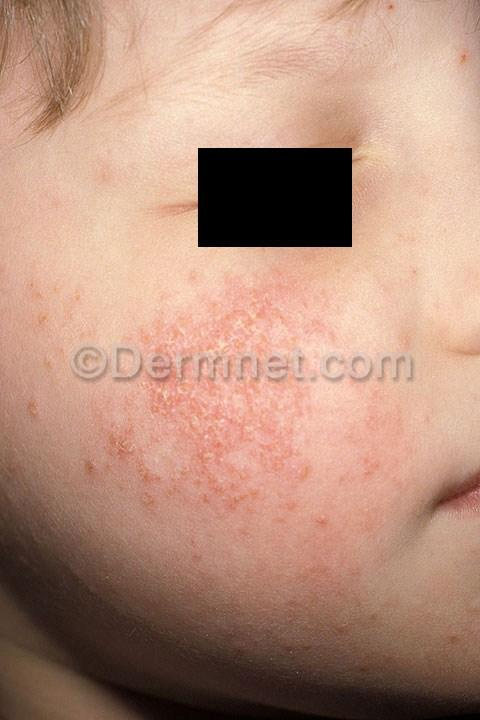edema 1: (25, 265, 115, 428)
edema 2: (76, 285, 321, 539)
eritema 1: (98, 282, 384, 540)
